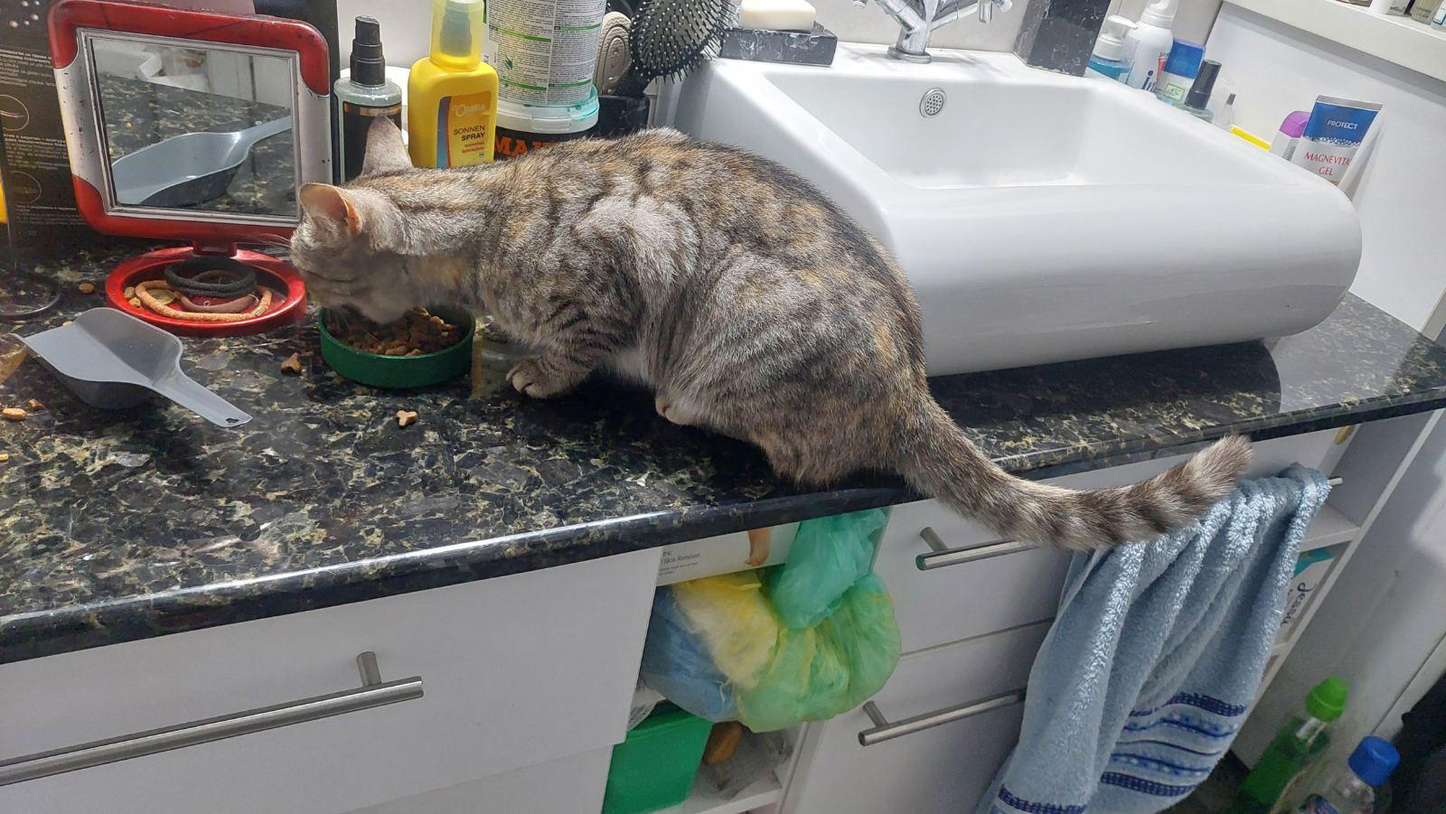macka: (287, 114, 1253, 553)
